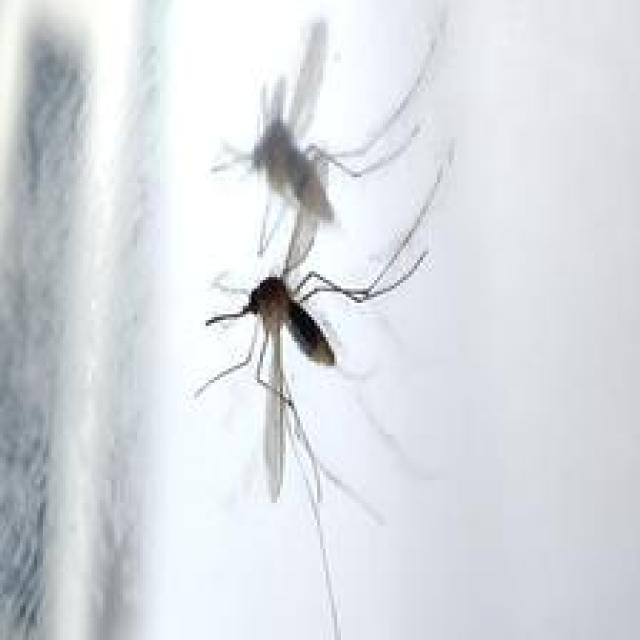Culex: (190, 7, 456, 639)
